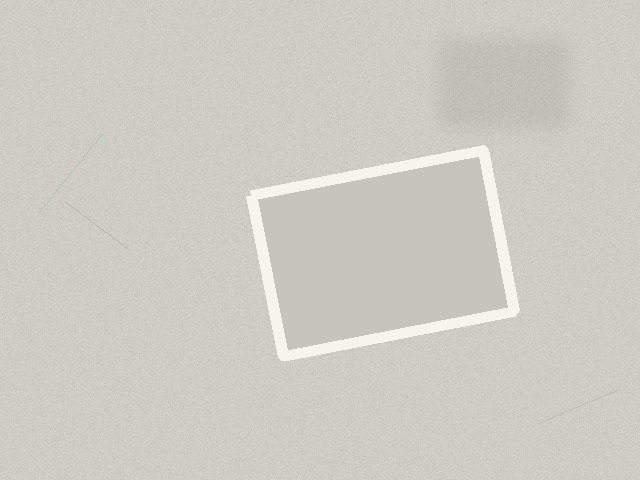parking_area: (251, 150, 514, 356)
